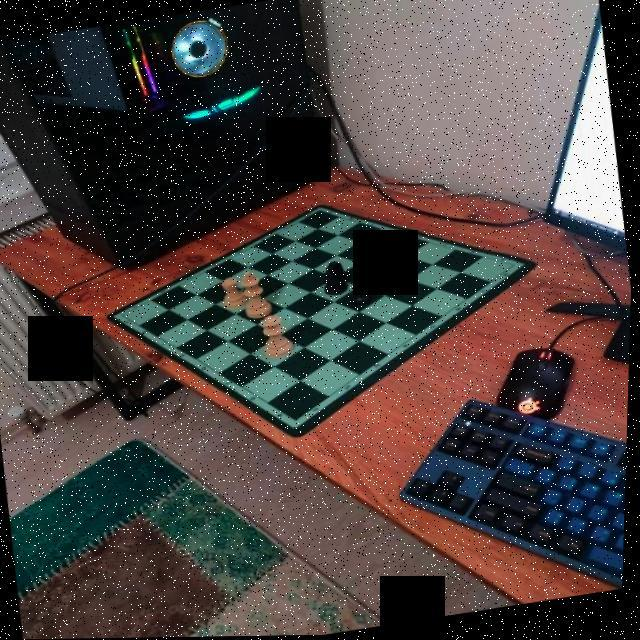chess-table-corners: (504, 260, 526, 274), (114, 309, 135, 323), (311, 204, 330, 218), (290, 414, 308, 427)
